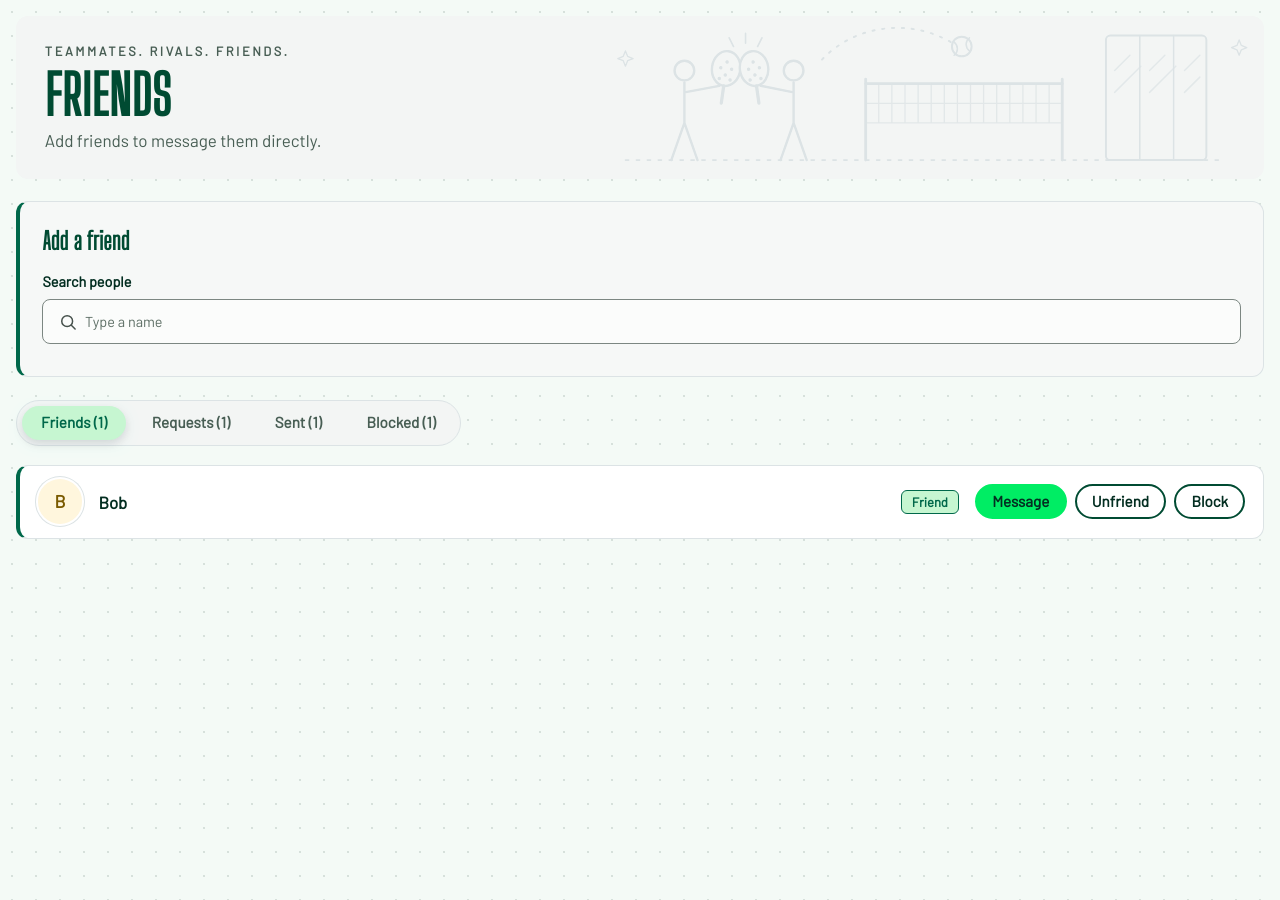
Test: friend UI actions and failure recovery › retains the search on failed creation and removes the candidate after a successful retry
Check: the link "Bob" is shown, box left=98, top=492, right=127, bottom=512
Type "Grace" into the search field labelled "Search people".
click(642, 322); type("Grace")  # box left=42, top=299, right=1241, bottom=344
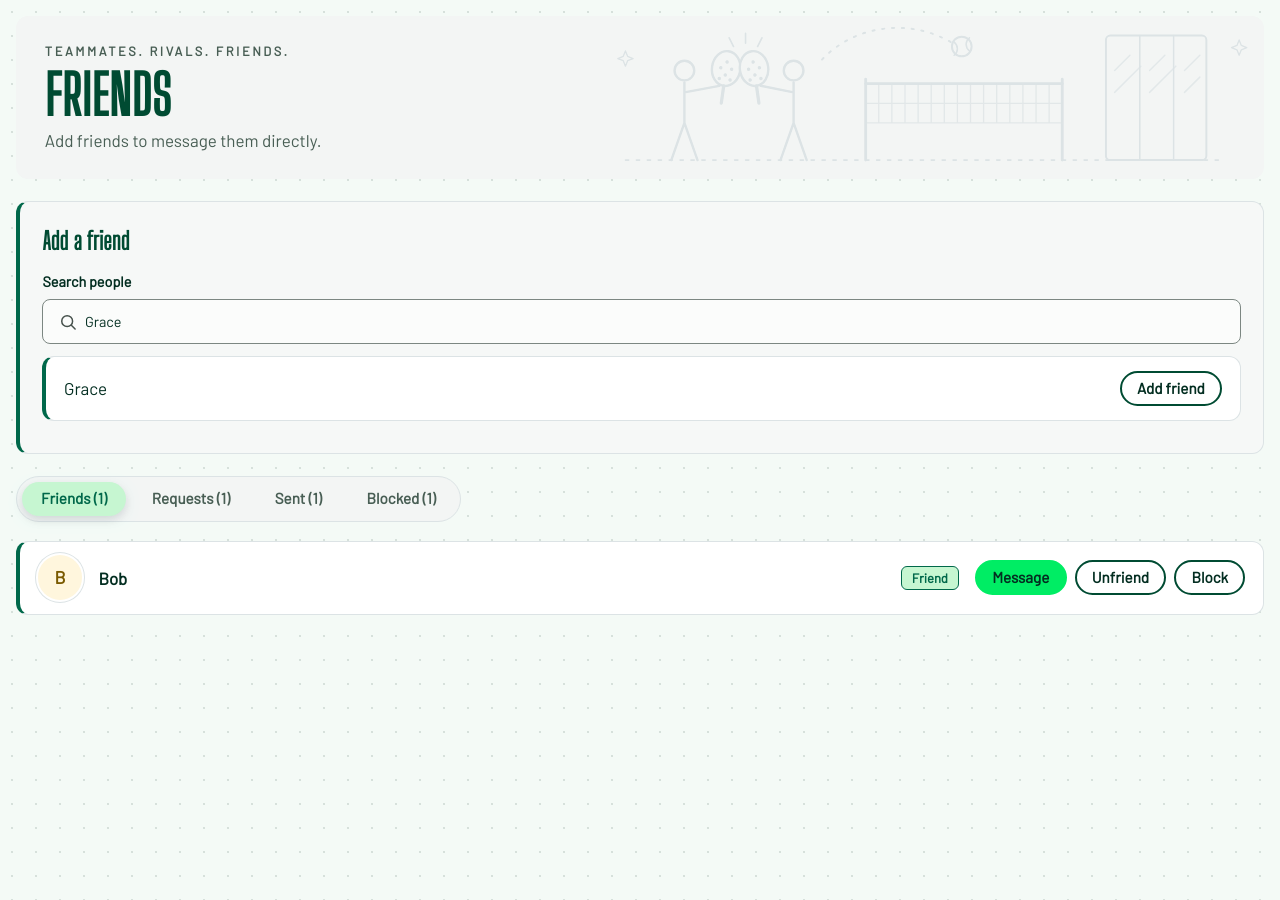
Click the button "Add friend".
click(1171, 389)  # box left=1120, top=371, right=1222, bottom=406
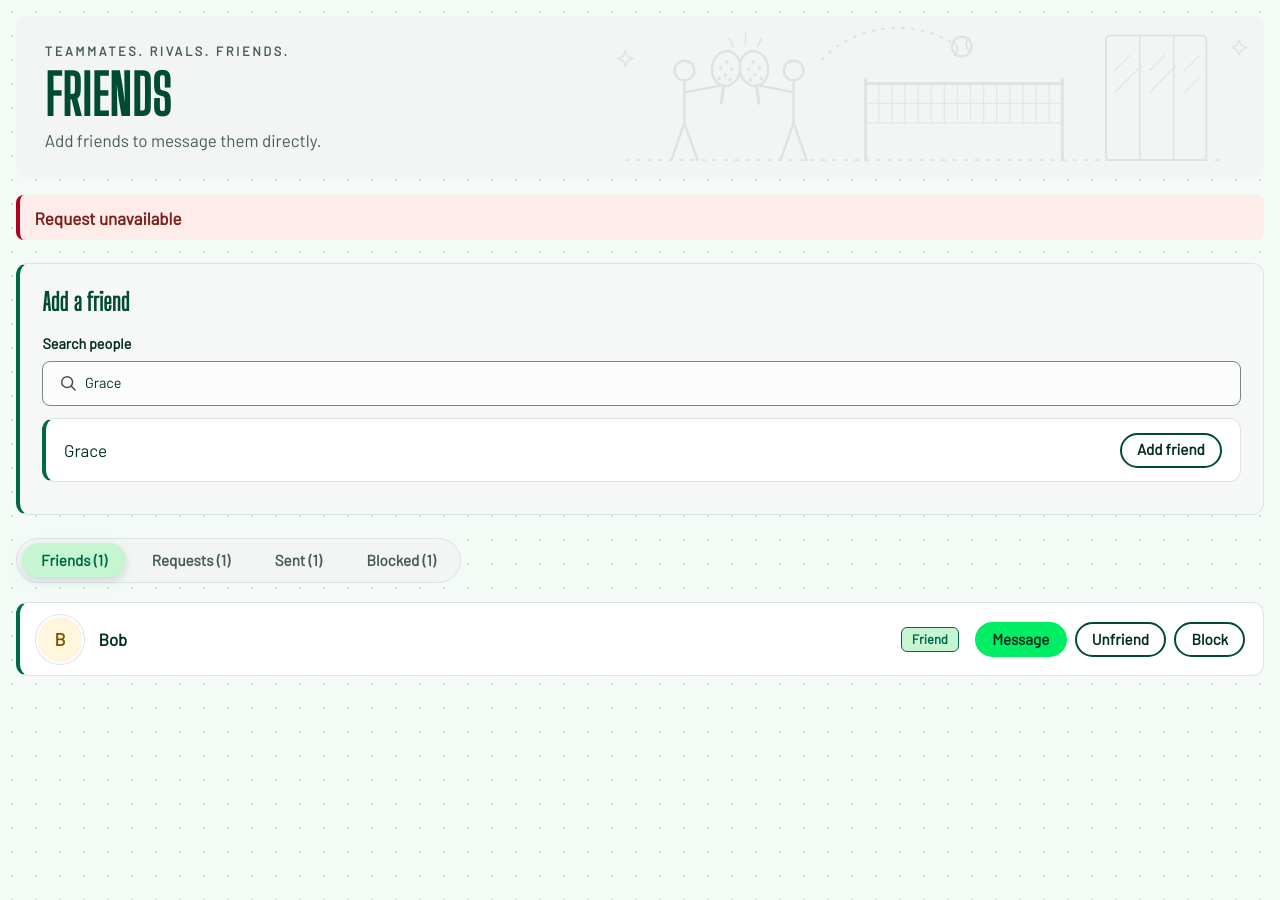
Check: the message reads "Request unavailable", box left=34, top=208, right=182, bottom=228
Click the button "Add friend".
click(1171, 450)  # box left=1120, top=433, right=1222, bottom=468
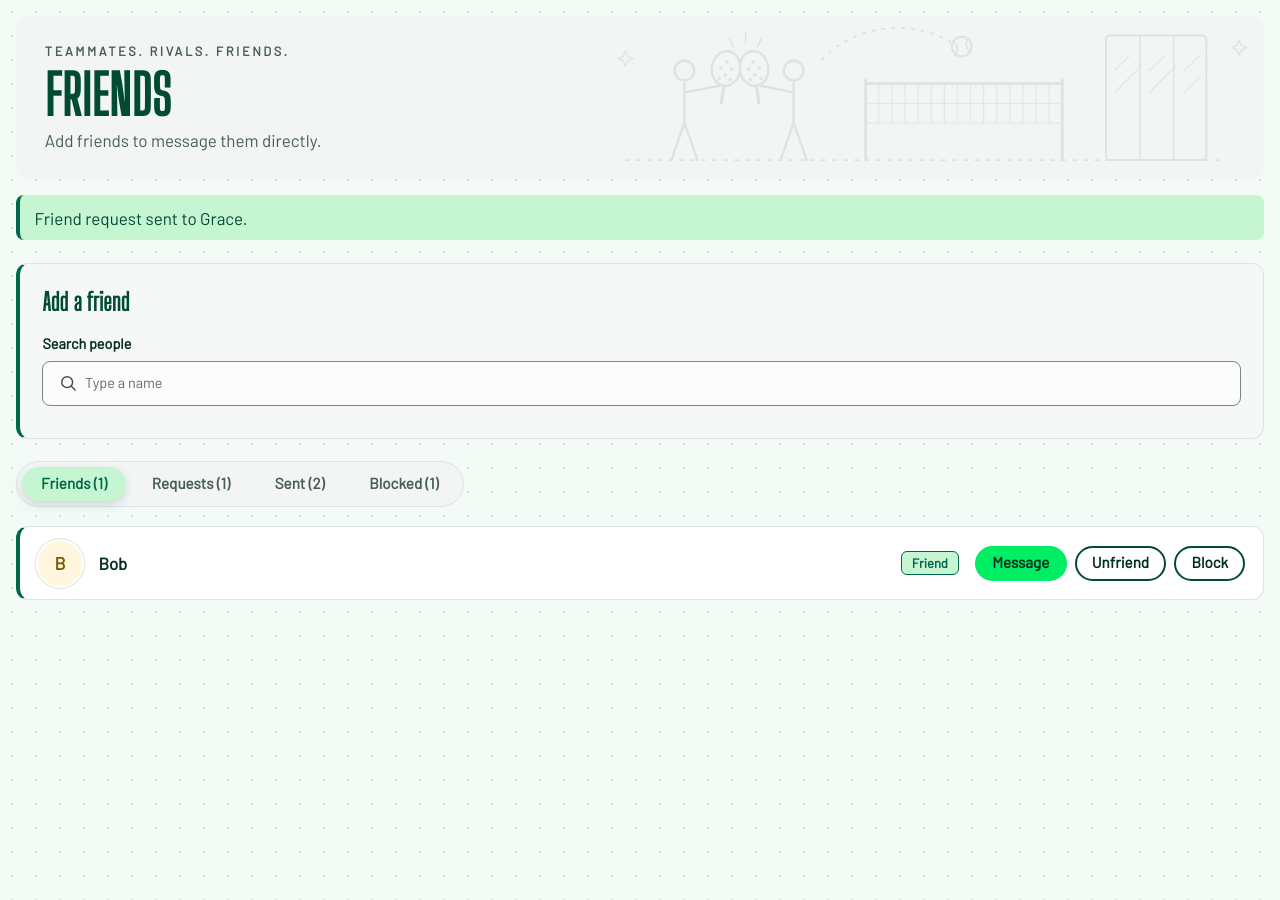
Check: the message reads "Friend request sent to Grace.", box left=34, top=208, right=248, bottom=228
Check: the search field labelled "Search people" is empty, box left=42, top=361, right=1241, bottom=406
